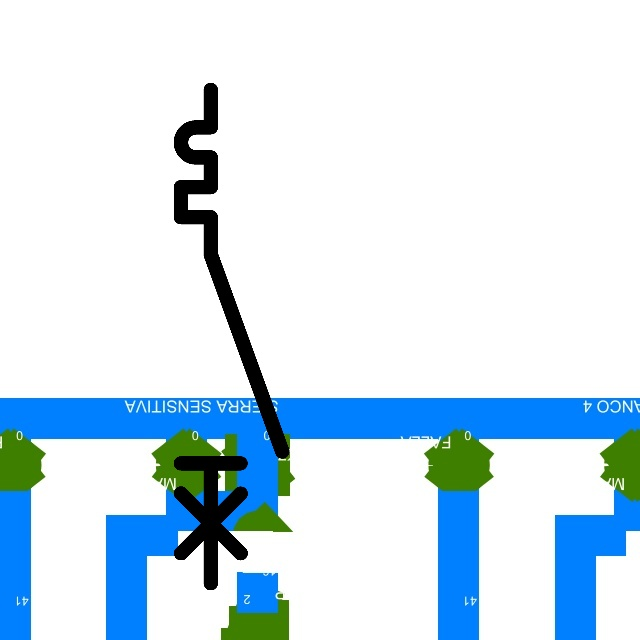interruptor_termomagnetico: (168, 77, 295, 596)
